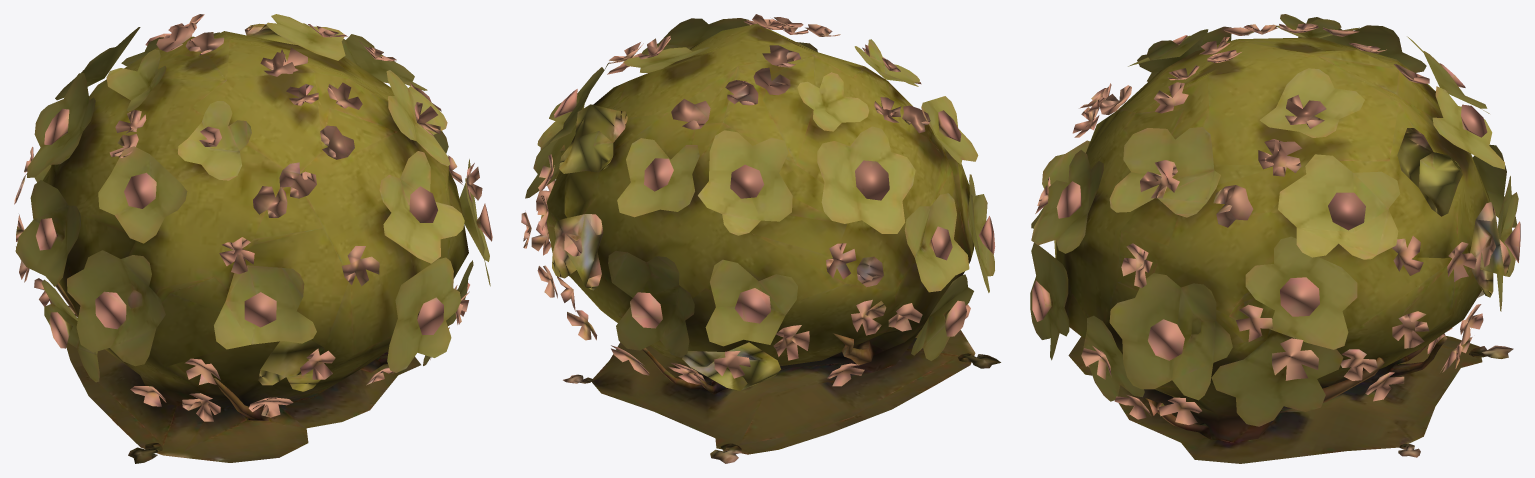
Rendered from bush_flowers.glb.
3 renders of one model, left to right at view 1: azimuth 30°, elevation 25°; view 2: azimuth 150°, elevation 25°; view 3: azimuth 270°, elevation 25°, orthographic. The views are drawn at different scales.
Parts seen in each view (by area): view 1: tripo_node_99302365-8ed4-4489-a35c-b69c0ab7538f; view 2: tripo_node_99302365-8ed4-4489-a35c-b69c0ab7538f; view 3: tripo_node_99302365-8ed4-4489-a35c-b69c0ab7538f.
Boxes of the visible parts, x1,y1,x2,y2 form: tripo_node_99302365-8ed4-4489-a35c-b69c0ab7538f: [14, 14, 492, 463]; tripo_node_99302365-8ed4-4489-a35c-b69c0ab7538f: [521, 14, 1000, 463]; tripo_node_99302365-8ed4-4489-a35c-b69c0ab7538f: [1030, 14, 1520, 463].
Bounding box in the file's own units: 2.05 × 1.6 × 2.01.
1 material, 1 textured.
